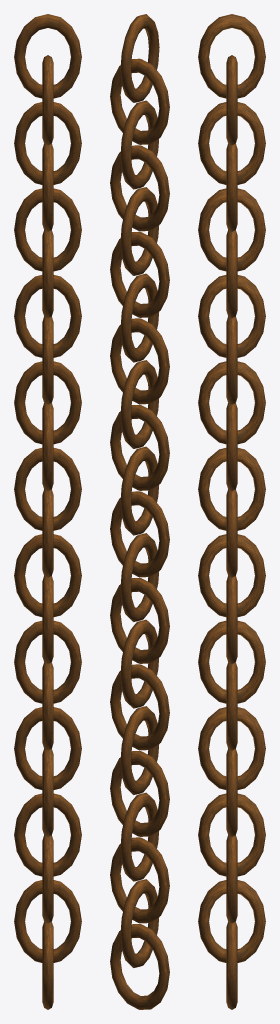
File: time-ruins-chain.glb
3 views of the same model, side by side, from view 1: azimuth 90°, elevation 25°; view 2: azimuth 150°, elevation 25°; view 3: azimuth 270°, elevation 25° (orthographic).
Parts seen in each view (by area): view 1: time-ruins-chain Aged bronze; view 2: time-ruins-chain Aged bronze; view 3: time-ruins-chain Aged bronze.
Part boxes in pixels (x1,y1,x2,y2): time-ruins-chain Aged bronze: (14, 14, 81, 1009); time-ruins-chain Aged bronze: (110, 14, 169, 1009); time-ruins-chain Aged bronze: (198, 14, 265, 1009).
Size of the model in its own units: 0.148 by 2.39 by 0.148.
1 material, 1 textured.
